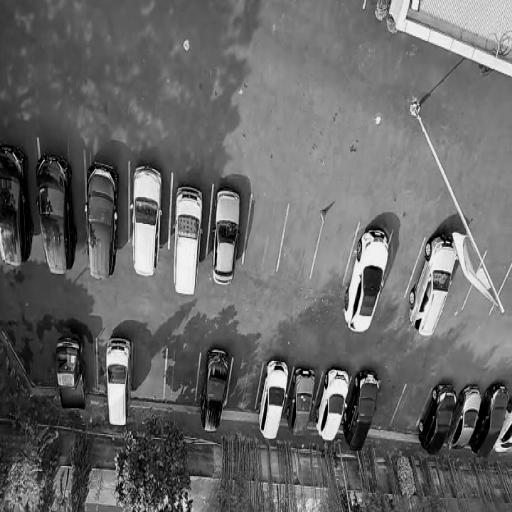Car: (401, 229, 466, 346), (336, 221, 396, 342), (34, 151, 75, 280), (83, 156, 119, 286), (337, 361, 385, 455), (411, 379, 463, 464), (126, 162, 164, 278), (169, 186, 207, 300), (0, 142, 31, 274), (309, 359, 354, 448), (207, 186, 244, 288), (251, 354, 292, 446), (442, 381, 490, 458), (465, 384, 512, 461), (196, 342, 234, 436), (50, 335, 92, 413), (101, 334, 135, 430), (282, 364, 320, 441), (491, 397, 512, 457)
Space Available: (242, 190, 287, 274), (276, 205, 323, 282), (462, 250, 512, 316), (311, 218, 358, 284), (380, 232, 424, 299), (443, 245, 485, 310), (162, 347, 201, 408), (132, 342, 167, 408), (226, 357, 264, 415), (389, 384, 430, 432), (370, 381, 406, 429)
